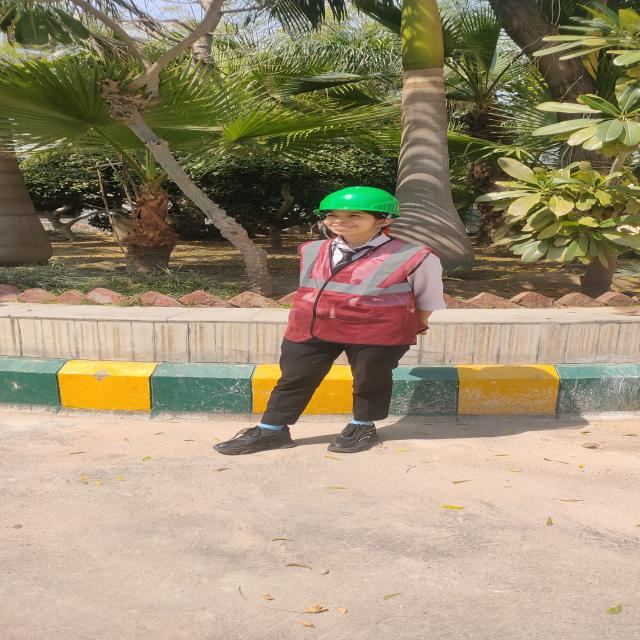safe: (215, 187, 442, 453)
